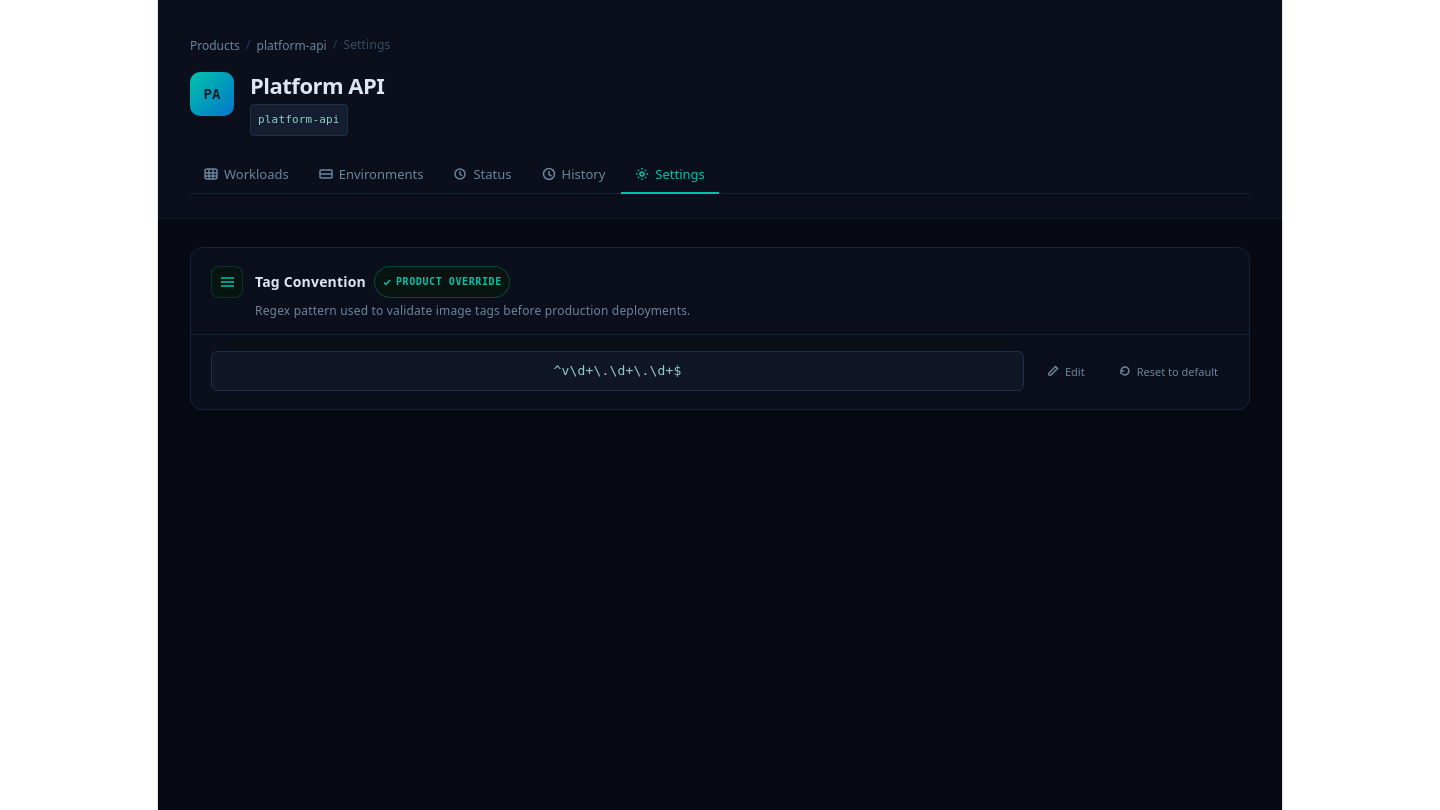
ProductSettingsPage — save error: empty regex › shows "Regex is required" inline error when submitting empty value
Click the button "Edit" at point(1066, 371), box top-left (1036, 359), bottom-right (1096, 384)
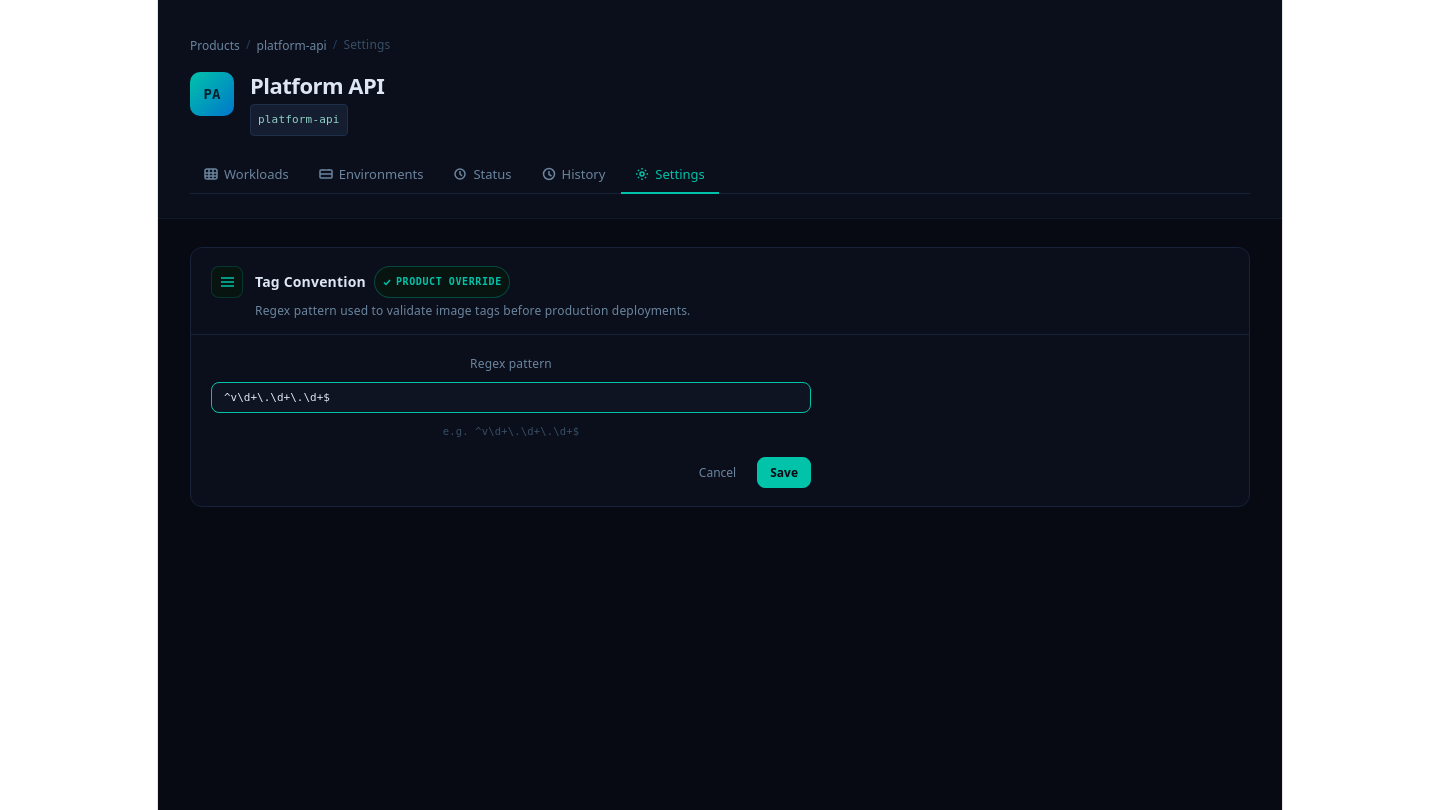
// Clear the input to empty
Clear the field labelled "Regex pattern" at point(511, 398), box top-left (211, 382), bottom-right (811, 414)
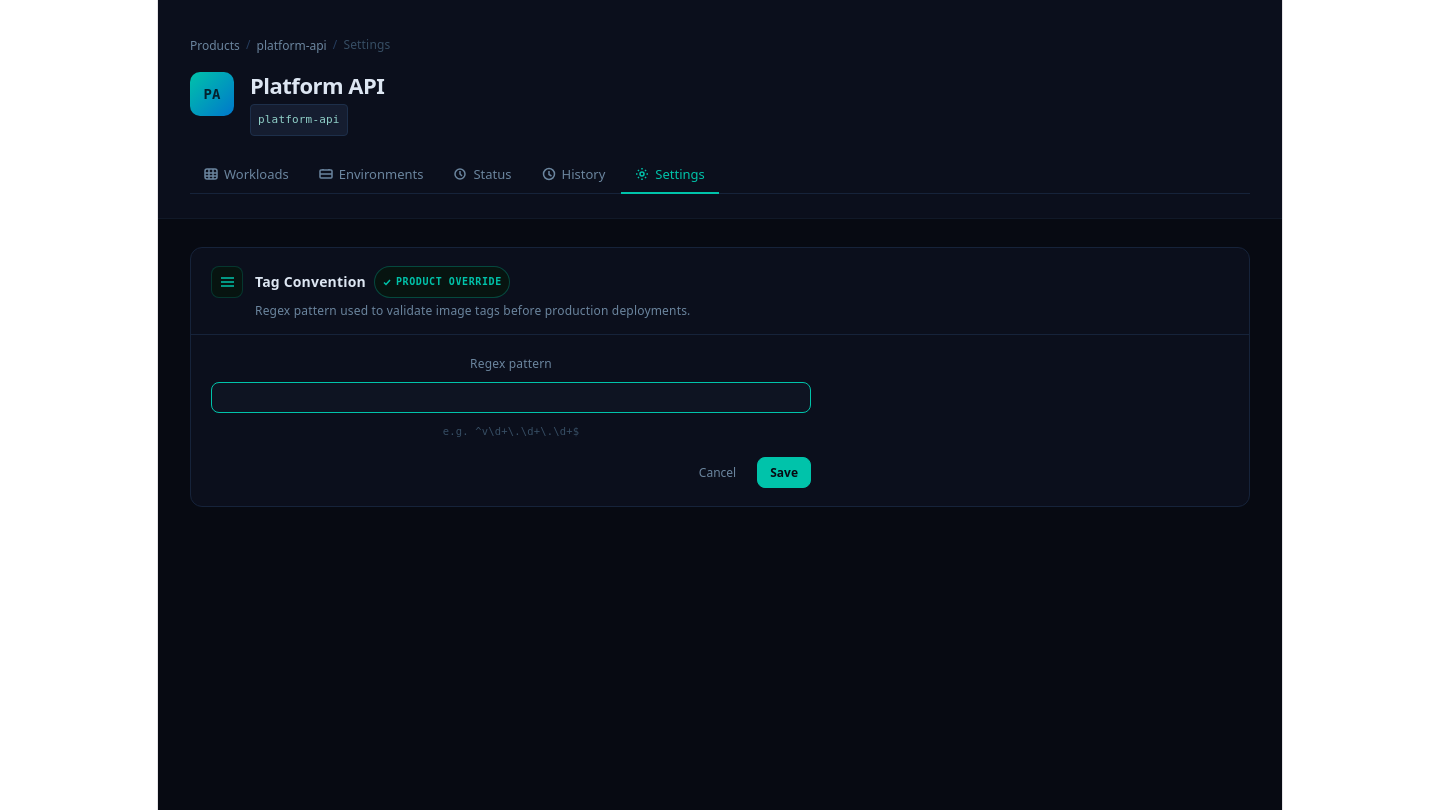
Click the button "Save" at point(784, 472), box top-left (757, 457), bottom-right (811, 488)
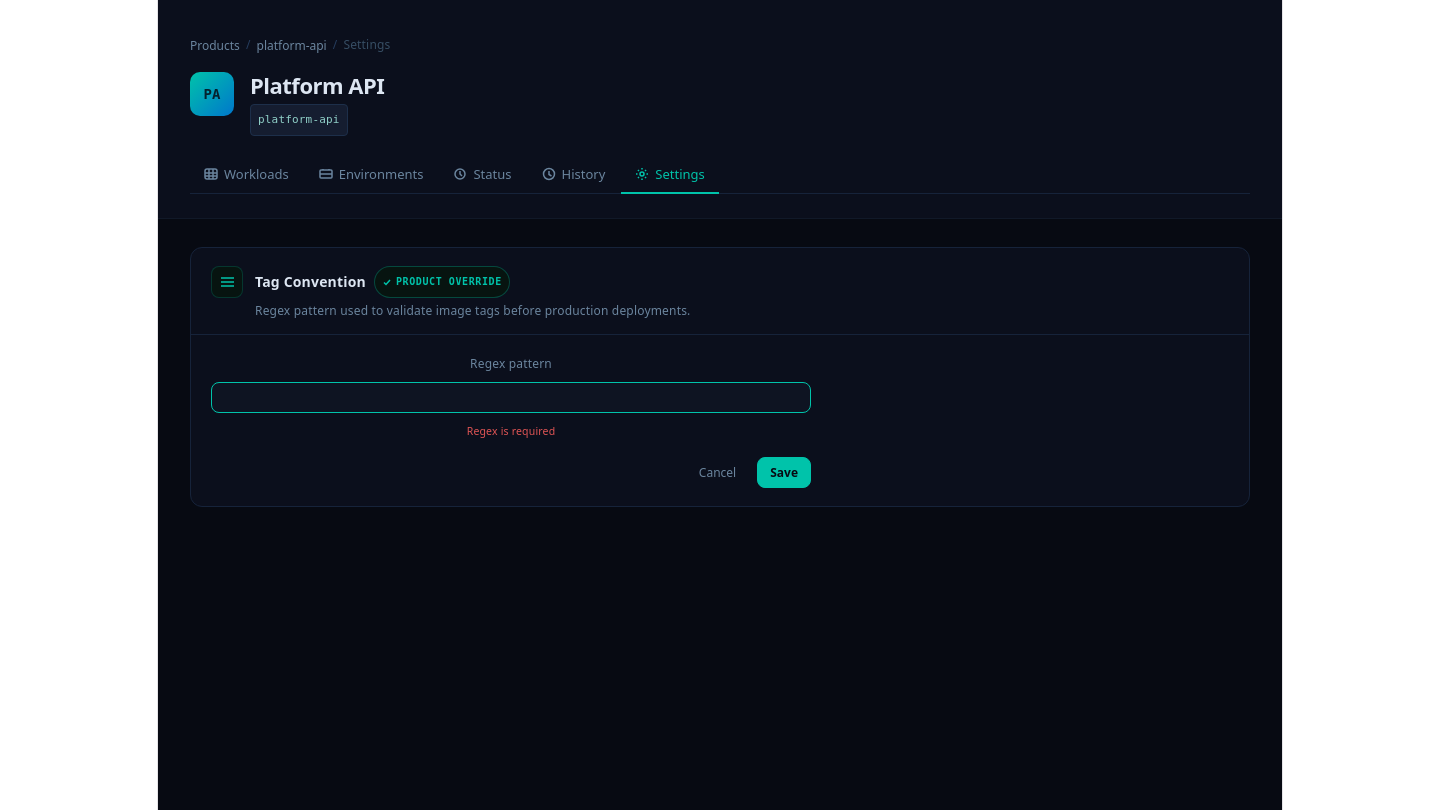
expect the text "Regex is required" is shown: met, box top-left (467, 424), bottom-right (555, 438)
